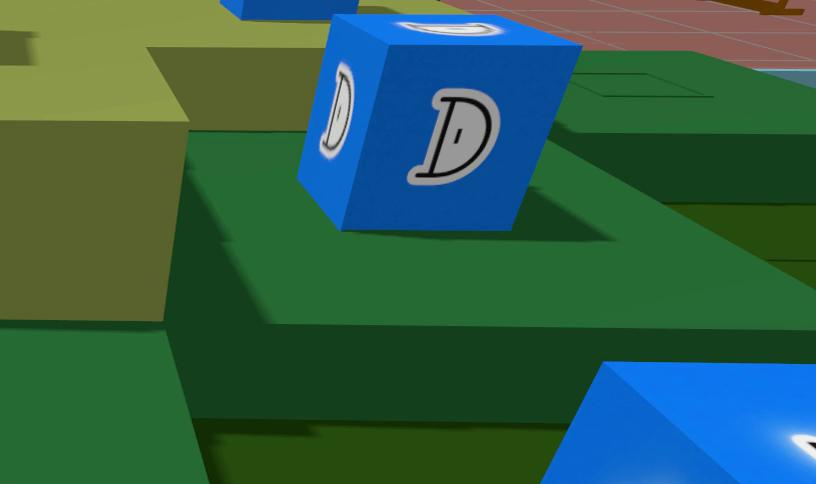KFS_REAL: (298, 14, 582, 232), (537, 362, 815, 484), (407, 89, 499, 185), (319, 64, 355, 159), (219, 1, 358, 21)
